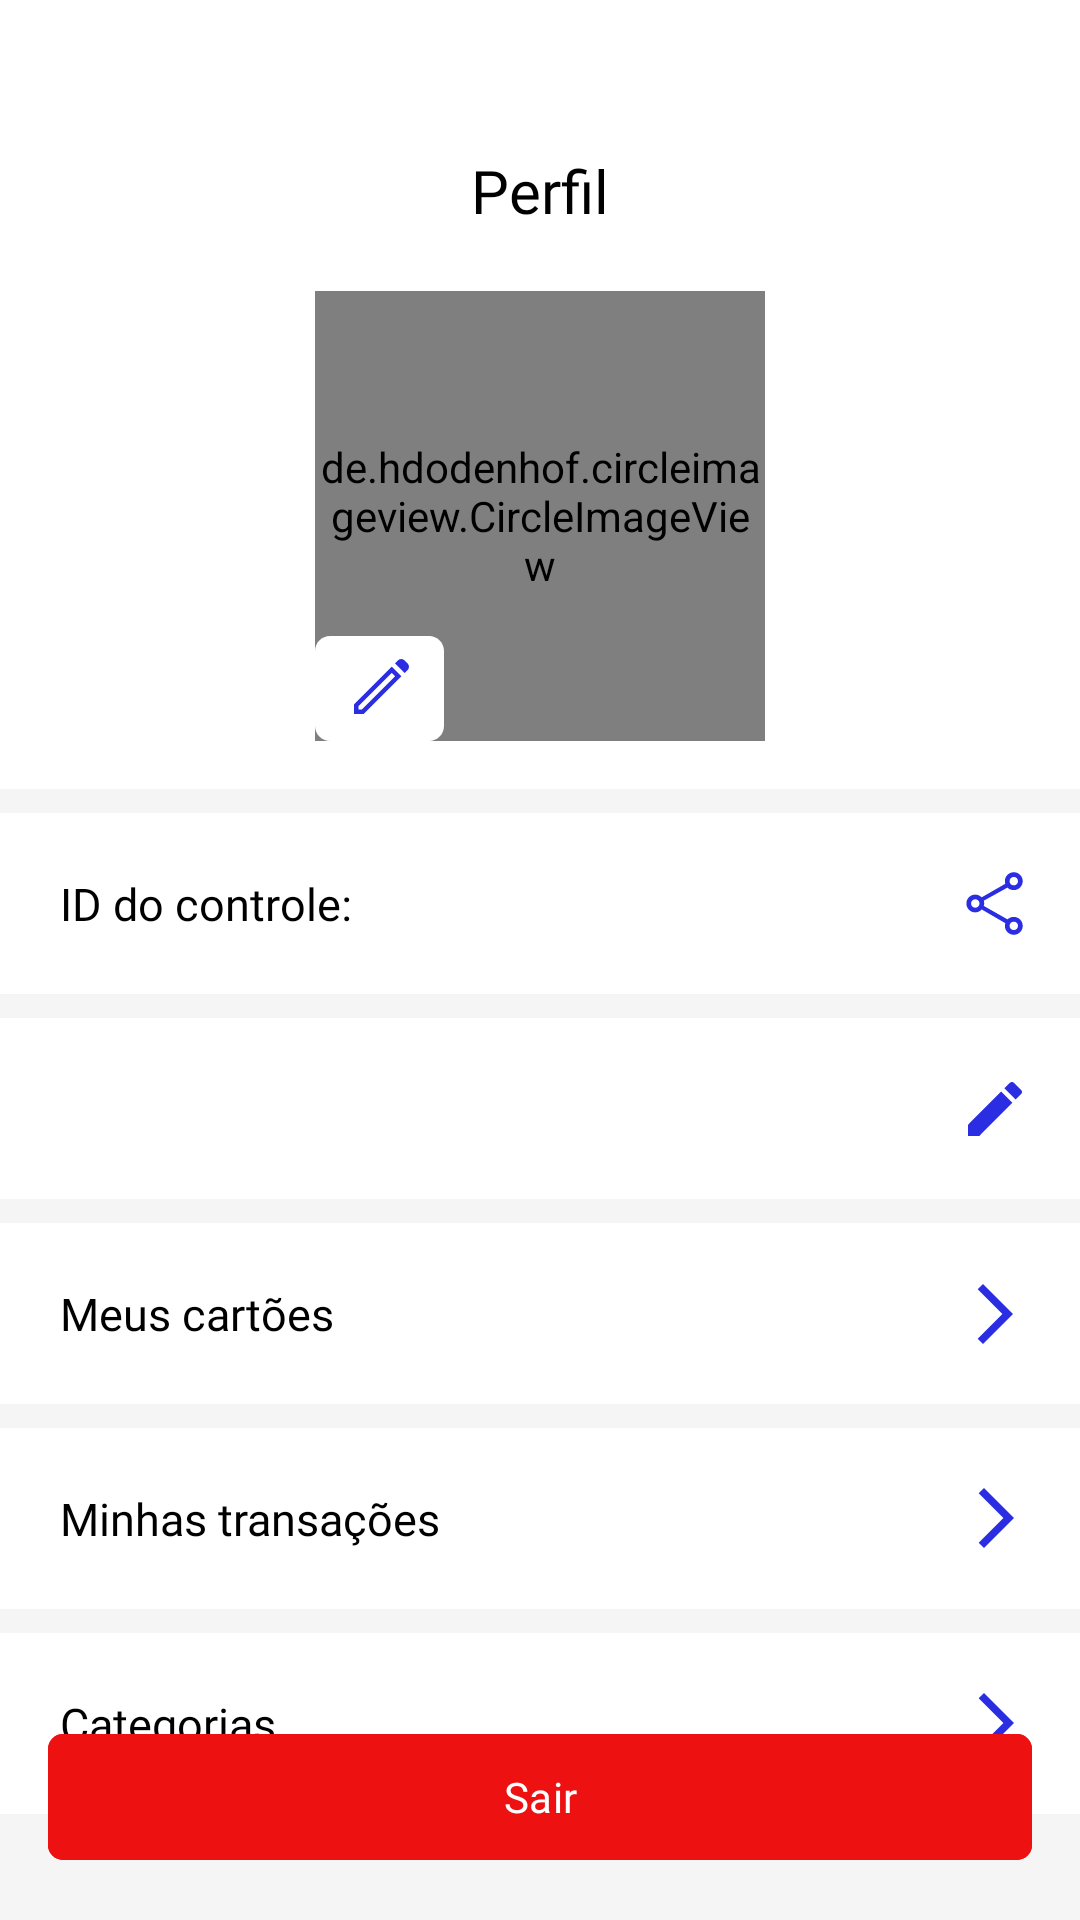

Icon click points for this 1080 × 1920 phone screenshot, format point (x, y):
edit: point (379, 688), point (995, 1109)
share: point (994, 903)
